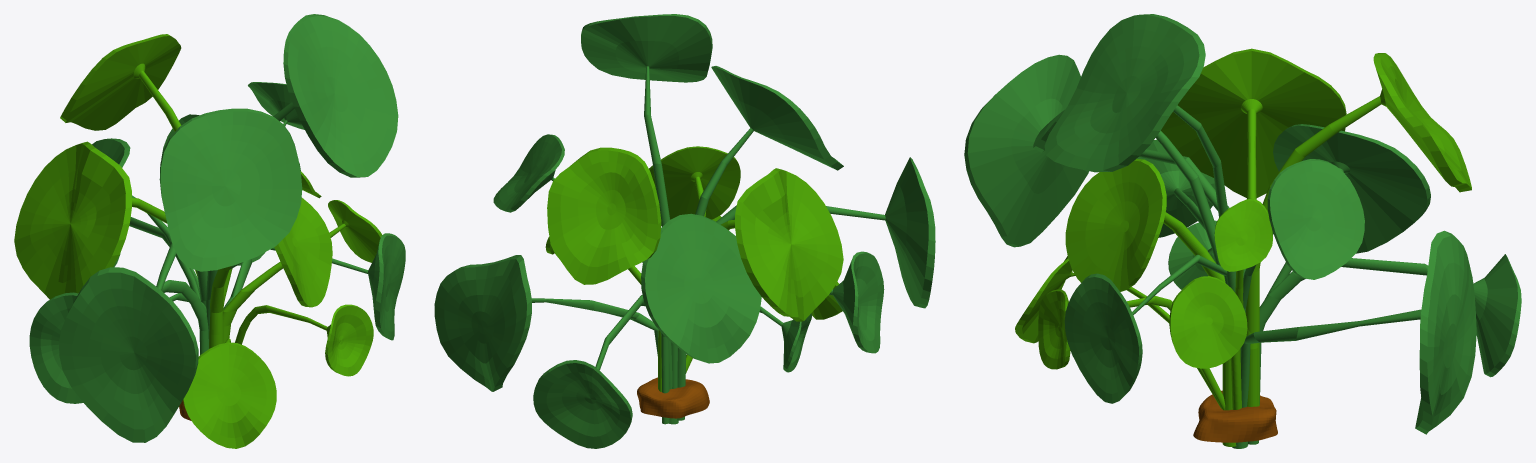
The model's file is Pileapepe_L.fbx.
3 views of the same model, side by side, from view 1: azimuth 30°, elevation 25°; view 2: azimuth 150°, elevation 25°; view 3: azimuth 270°, elevation 25° (orthographic). The views are drawn at different scales.
Parts seen in each view (by area): view 1: Cube.001; view 2: Cube.001; view 3: Cube.001.
Part boxes in pixels (x1,y1,x2,y2): Cube.001: (14,14,405,448); Cube.001: (434,14,935,448); Cube.001: (964,14,1521,448).
Bounding box in the file's own units: 152 × 151 × 167.
